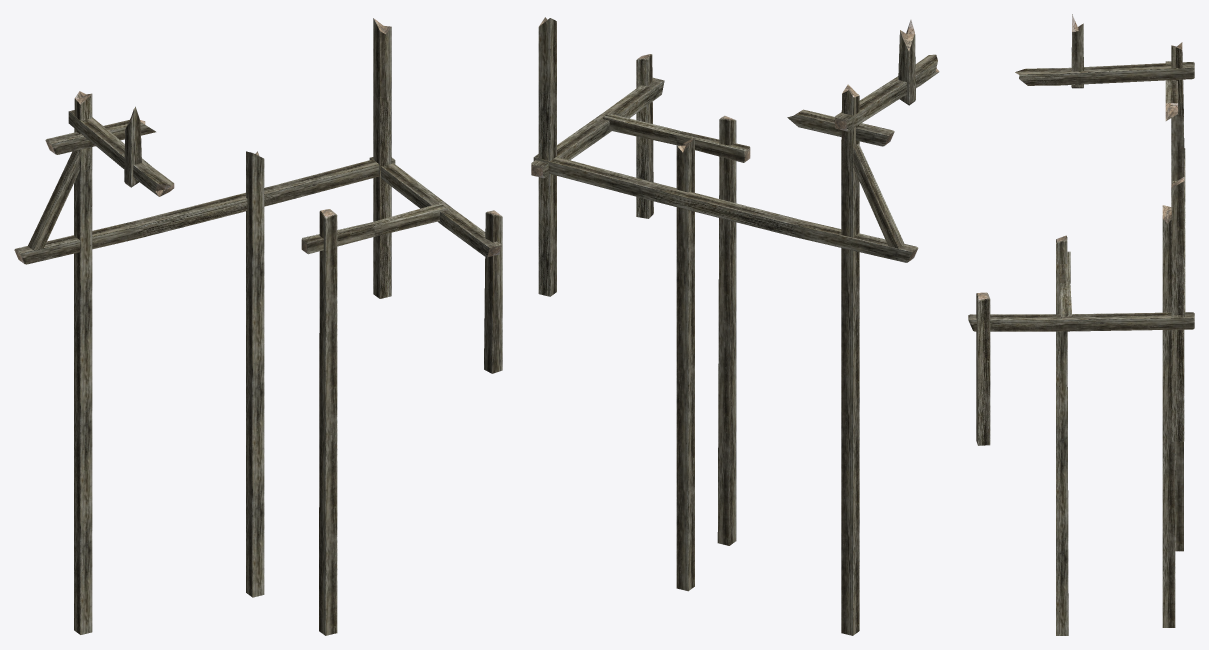
The model's file is TW2_1_HUT_02_9-transformed.glb.
3 views of the same model, side by side, from view 1: azimuth 30°, elevation 25°; view 2: azimuth 150°, elevation 25°; view 3: azimuth 270°, elevation 25° (orthographic). The views are drawn at different scales.
Parts seen in each view (by area): view 1: default; view 2: default; view 3: default.
Part boxes in pixels (box(x1,y1,x2,y2)): default: box(14, 18, 502, 635); default: box(531, 17, 939, 635); default: box(968, 14, 1194, 635).
Bounding box in the file's own units: 8.49 × 12.18 × 4.68.
Materials: 2 (2 with a texture image).
